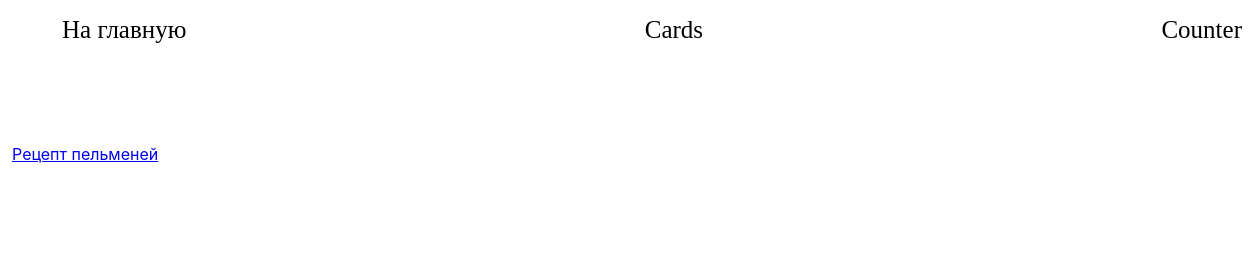
it: app works correctly with routes › should open cards page after "cards" button click
Click the link "Cards" at point(674, 30), box [645, 16, 703, 44]
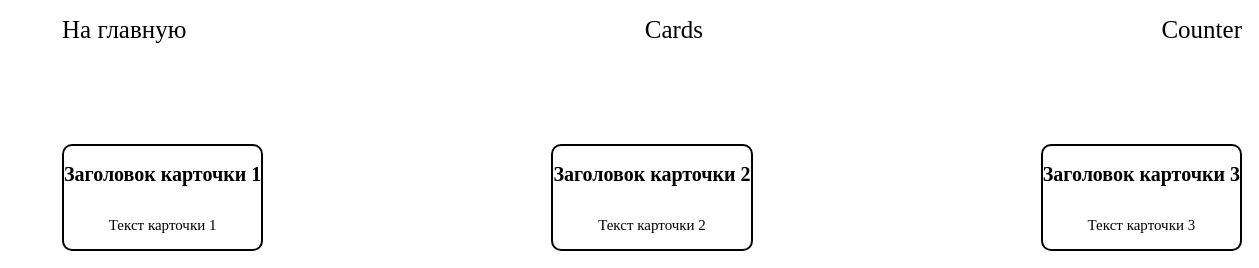
Expected: the text "Текст карточки" is shown, [109, 217, 217, 233]
